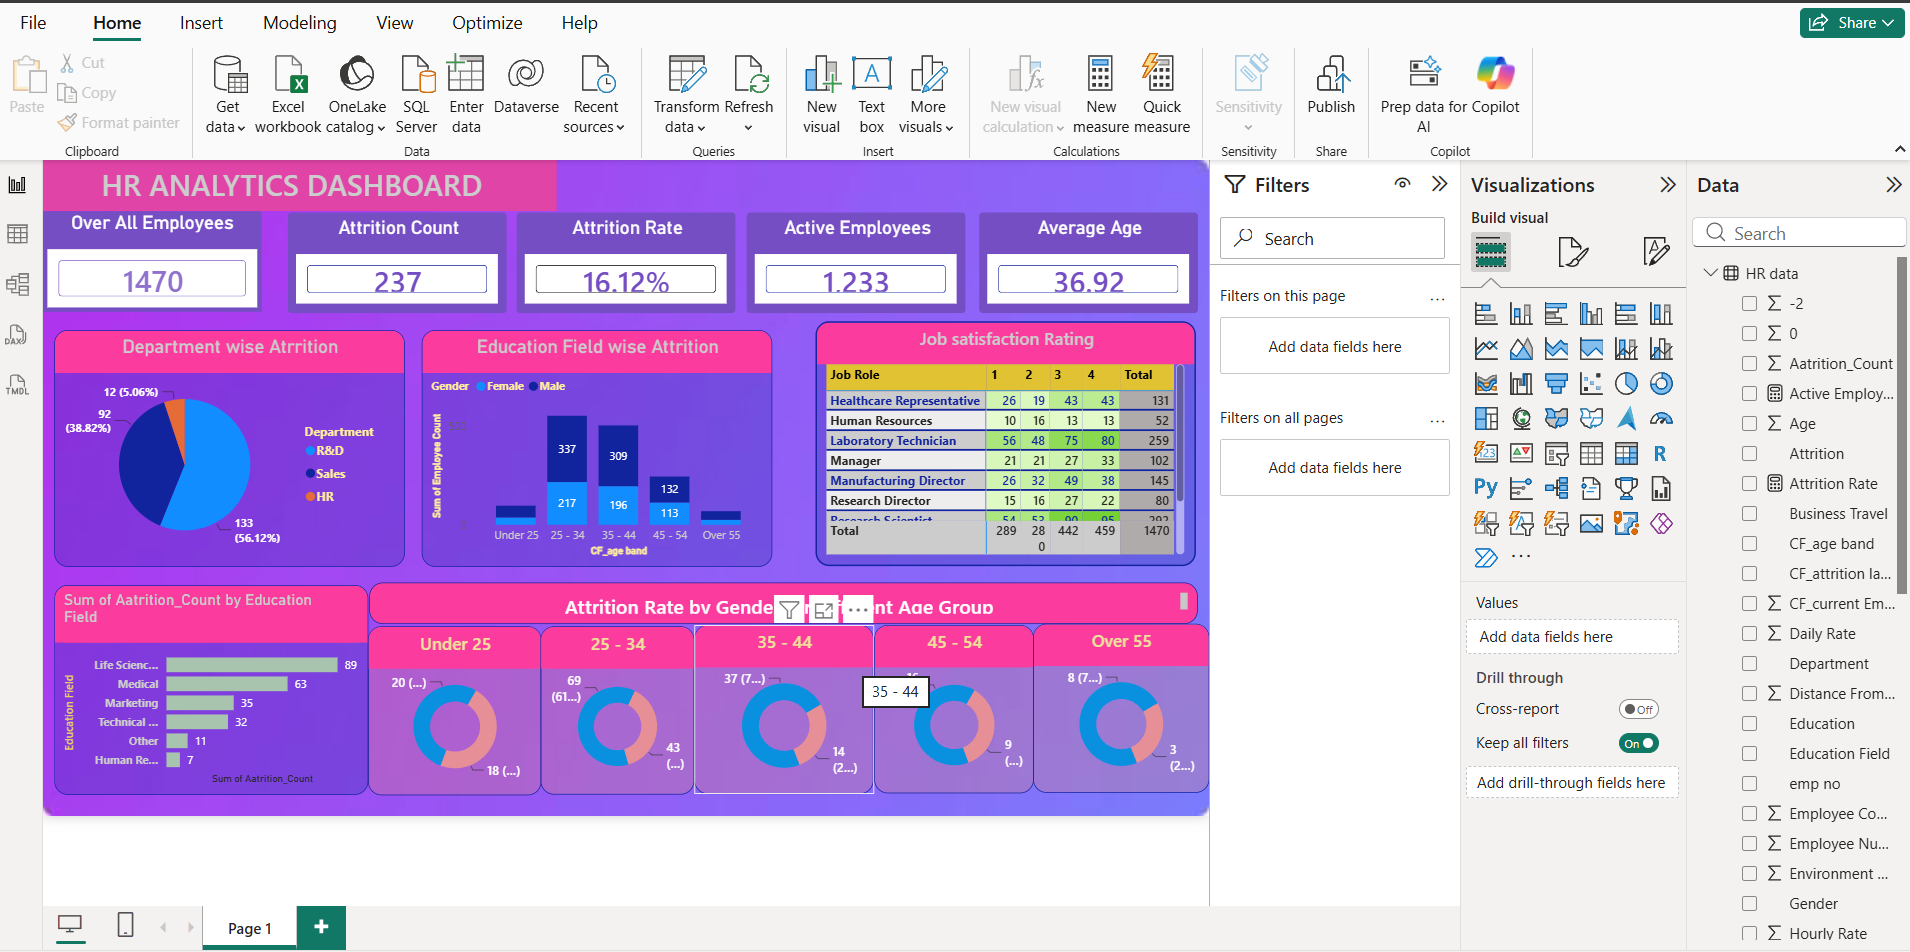

The dashboard page shown, as its layout file describes it:
{"tool":"powerbi","page":{"name":"Page 1","canvas":[1280,720],"ordinal":0},"visuals":[{"type":"cardVisual","title":"Over All Employees","fields":{"Data":["Sum(HR data.Employee Count)"]},"box":[0,56.3,240.3,110.7],"z":0},{"type":"cardVisual","title":"Attrition Count","fields":{"Data":["Sum(HR data.Aatrition_Count)"]},"box":[269,57.6,240,110],"z":1000},{"type":"cardVisual","title":"Attrition Rate","fields":{"Data":["HR data.Attrition Rate"]},"box":[520.1,57.6,240,110],"z":2000},{"type":"cardVisual","title":"Active Employees","fields":{"Data":["HR data.Active Employees"]},"box":[772.6,57.6,240,110],"z":3000},{"type":"cardVisual","title":"Average Age","fields":{"Data":["Avg(HR data.Age)"]},"box":[1027.8,57.6,240,110],"z":4000},{"type":"pieChart","title":"Department wise Atrrition","fields":{"Category":["HR data.Department"],"Y":["Sum(HR data.Aatrition_Count)"]},"box":[12.3,186.6,385,260],"z":5000},{"type":"columnChart","title":"Education Field wise Attrition","fields":{"Category":["HR data.CF_age band"],"Y":["Sum(HR data.Employee Count)"],"Series":["HR data.Gender"]},"box":[415.8,186.6,385,260],"z":6000},{"type":"pivotTable","title":"Job satisfaction Rating ","fields":{"Rows":["HR data.Job Role"],"Columns":["HR data.Job Satisfaction"],"Values":["Sum(HR data.Employee Count)"]},"box":[848,177,417.5,268.8],"z":7000},{"type":"barChart","fields":{"Category":["HR data.Education Field"],"Y":["Sum(HR data.Aatrition_Count)"]},"box":[12.3,466.6,345,230],"z":8000},{"type":"donutChart","title":"Under 25","fields":{"Category":["HR data.Gender"],"Y":["Sum(HR data.Aatrition_Count)"],"Series":["HR data.CF_age band"]},"box":[356.8,511.8,190.7,185.2],"z":9000},{"type":"textbox","box":[358.1,463.8,909.8,45.3],"z":10000},{"type":"donutChart","title":"25 - 34","fields":{"Category":["HR data.Gender"],"Y":["Sum(HR data.Aatrition_Count)"],"Series":["HR data.CF_age band"]},"box":[546.1,511.8,168.8,185],"z":11000},{"type":"donutChart","title":"Over 55","fields":{"Category":["HR data.Gender"],"Y":["Sum(HR data.Aatrition_Count)"],"Series":["HR data.CF_age band"]},"box":[1086.8,509.1,193.5,185.2],"z":12000},{"type":"donutChart","title":"35 - 44","fields":{"Category":["HR data.Gender"],"Y":["Sum(HR data.Aatrition_Count)"],"Series":["HR data.CF_age band"]},"box":[714.9,510.5,197.1,185.7],"z":13000},{"type":"donutChart","title":"45 - 54","fields":{"Category":["HR data.Gender"],"Y":["Sum(HR data.Aatrition_Count)"],"Series":["HR data.CF_age band"]},"box":[912.5,510.5,175.5,184.5],"z":14000},{"type":"textbox","box":[0,0,564,56.3],"z":15000}]}

Visuals, with their boxes on the page's 1280x720 design canvas (x1, y1, x2, y2). These are canvas units, not pixel positions in the 1910x952 screenshot, which may show the page scaled, cropped or inside an application window:
"Over All Employees" cardVisual: detection(0, 56, 240, 167)
"Attrition Count" cardVisual: detection(269, 58, 509, 168)
"Attrition Rate" cardVisual: detection(520, 58, 760, 168)
"Active Employees" cardVisual: detection(773, 58, 1013, 168)
"Average Age" cardVisual: detection(1028, 58, 1268, 168)
"Department wise Atrrition" pieChart: detection(12, 187, 397, 447)
"Education Field wise Attrition" columnChart: detection(416, 187, 801, 447)
"Job satisfaction Rating " pivotTable: detection(848, 177, 1266, 446)
barChart - HR data.Education Field x Sum(HR data.Aatrition_Count): detection(12, 467, 357, 697)
"Under 25" donutChart: detection(357, 512, 548, 697)
textbox: detection(358, 464, 1268, 509)
"25 - 34" donutChart: detection(546, 512, 715, 697)
"Over 55" donutChart: detection(1087, 509, 1280, 694)
"35 - 44" donutChart: detection(715, 510, 912, 696)
"45 - 54" donutChart: detection(912, 510, 1088, 695)
textbox: detection(0, 0, 564, 56)
